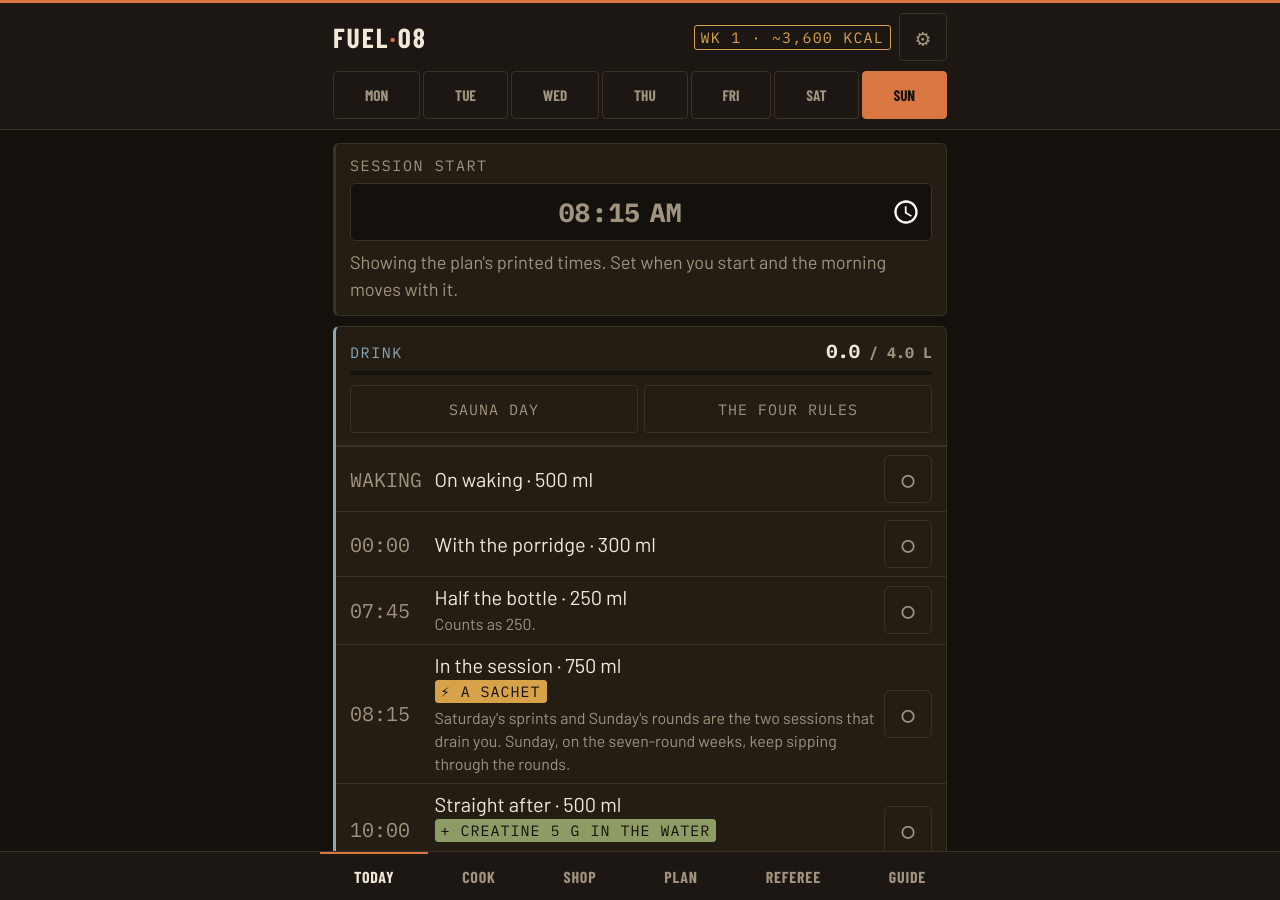
Scenario: Fuel · Optimal 8 Fighter › uses the weekend schedule and the sauna toggle
The image size is (1280, 900).
Click the button "SAT": (816, 95) [774,71,858,119]
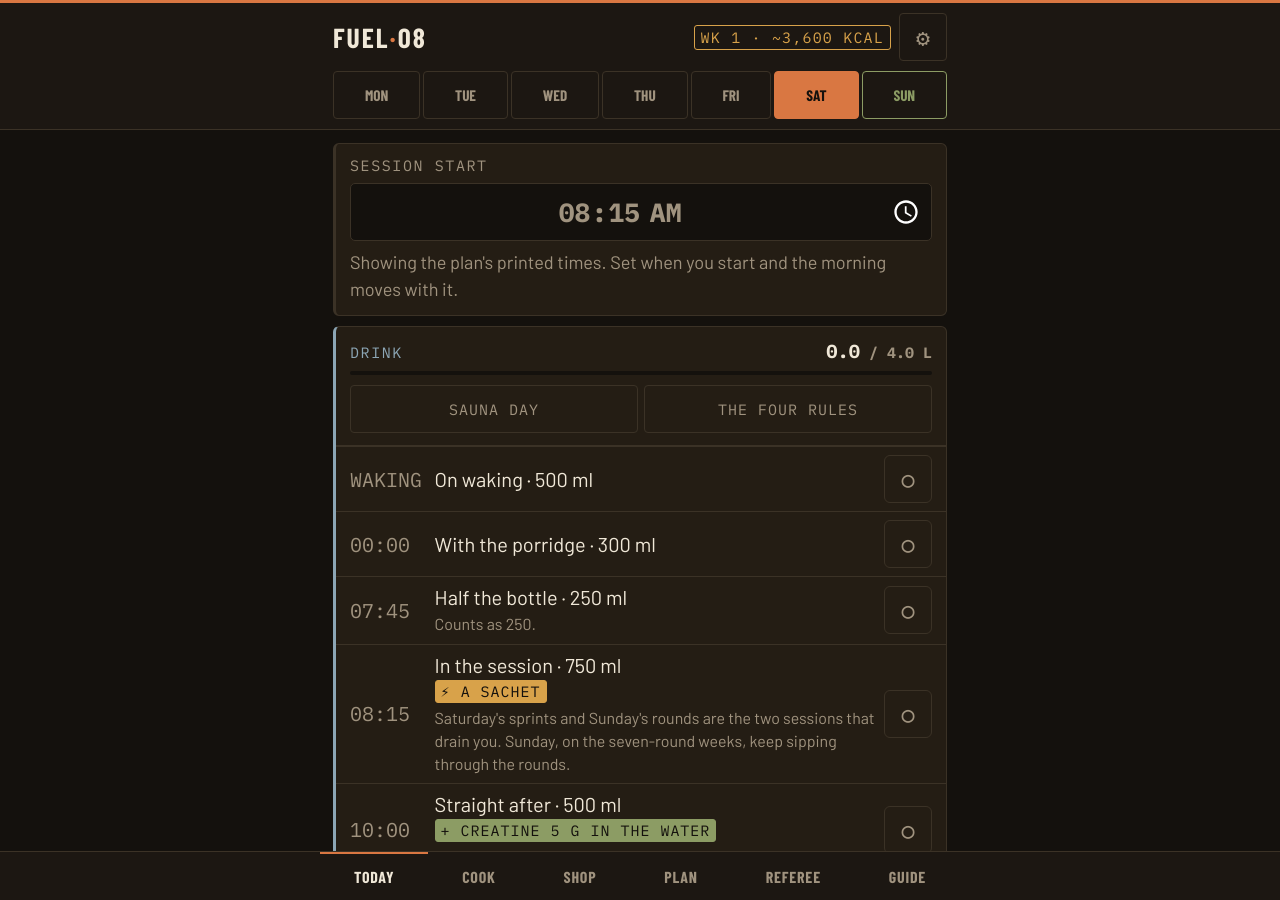
Check: the text "/ 4.0 L" is shown, box [860,343,932,362]
Check: the text "Before the sauna" is not shown
Click the button "SAUNA DAY": (494, 409) [350,385,638,433]
(page scrolled)
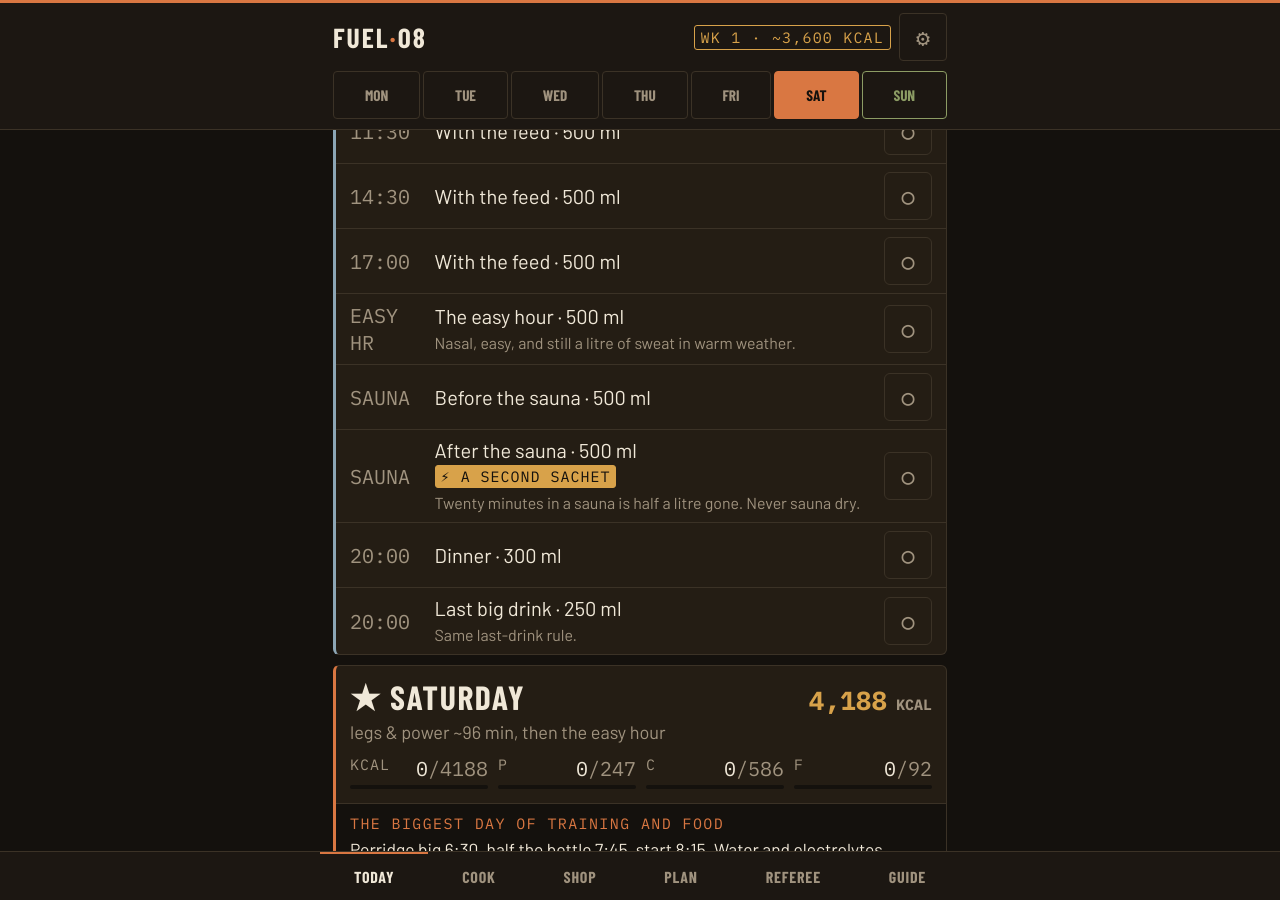
Check: the text "Before the sauna · 500 ml" is shown, box [435,385,651,409]
Check: the text "After the sauna · 500 ml" is shown, box [435,438,637,462]
